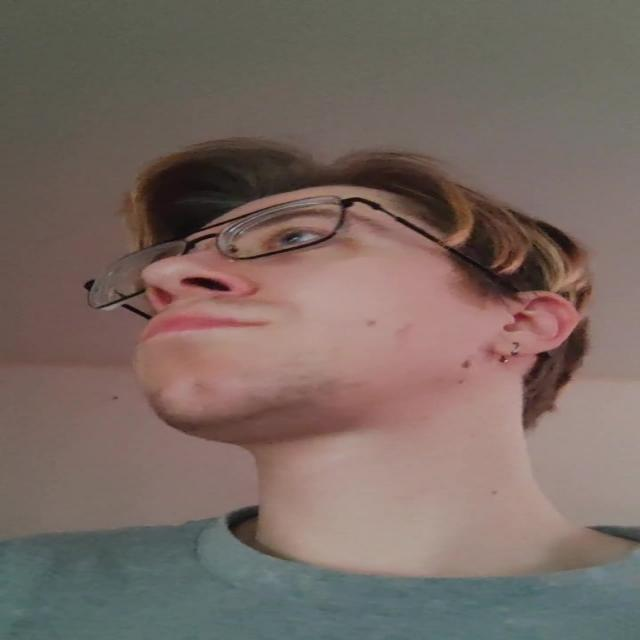earlobe: (493, 340, 552, 360)
eye: (256, 230, 343, 253)
nose: (147, 289, 243, 314)
wholeear: (496, 291, 578, 361)
